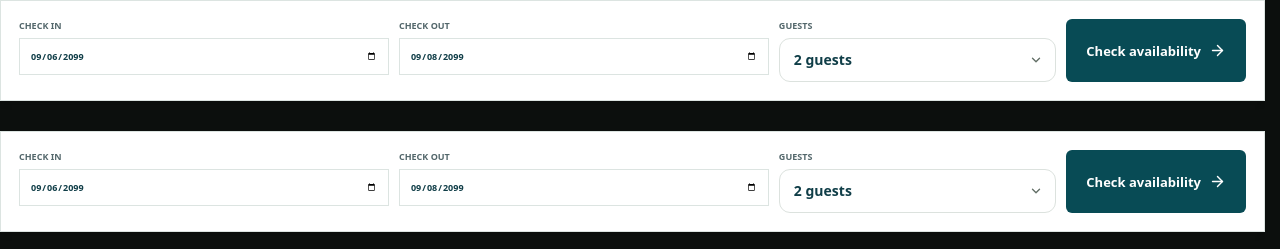
Test: Booking search › stacks notices raised together in one shared layer
In the 1st date field labelled "Check in": [204, 56] box top-left (19, 38), bottom-right (389, 75), type "2099-09-10"
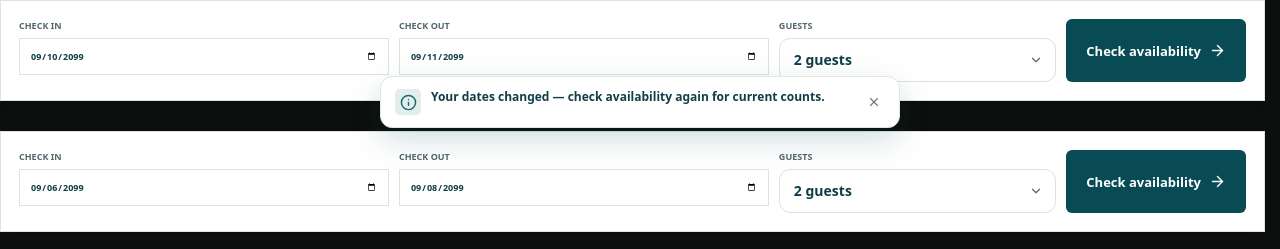
In the 2nd date field labelled "Check in": [204, 188] box top-left (19, 169), bottom-right (389, 206), type "2099-09-10"
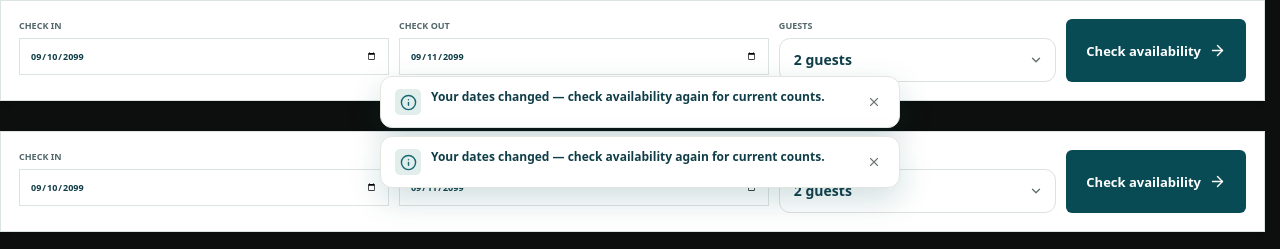
Now the number of elements with class "toast-layer" is 1, box top-left (380, 76), bottom-right (900, 188)
Now the number of messages with class "toast-card-static" is 2, box top-left (380, 76), bottom-right (900, 128); top-left (380, 136), bottom-right (900, 188)
